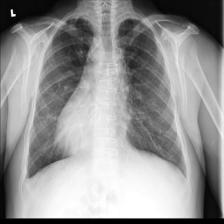normal: (24, 10, 190, 187)
